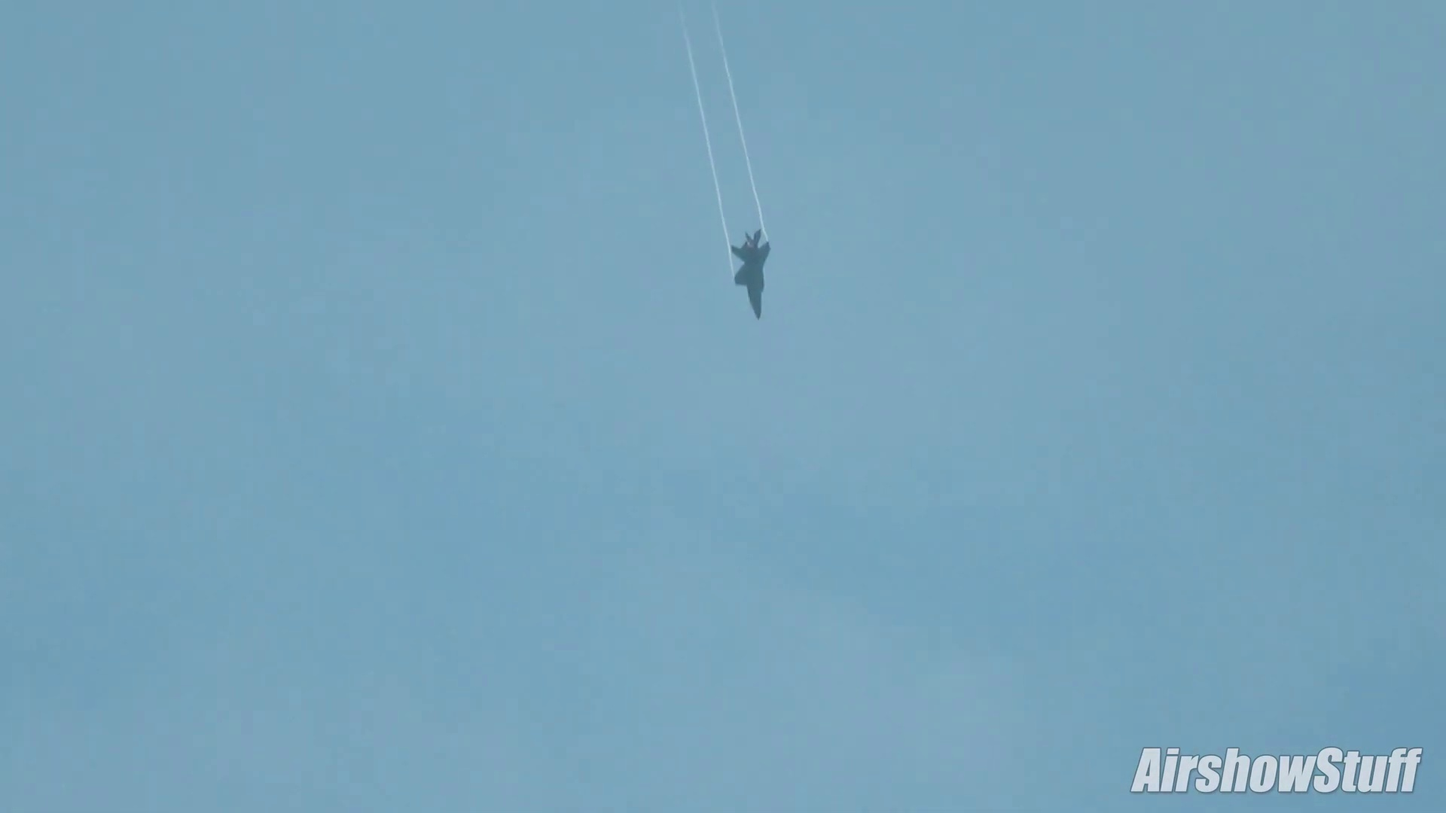F35: (726, 226, 774, 321)
